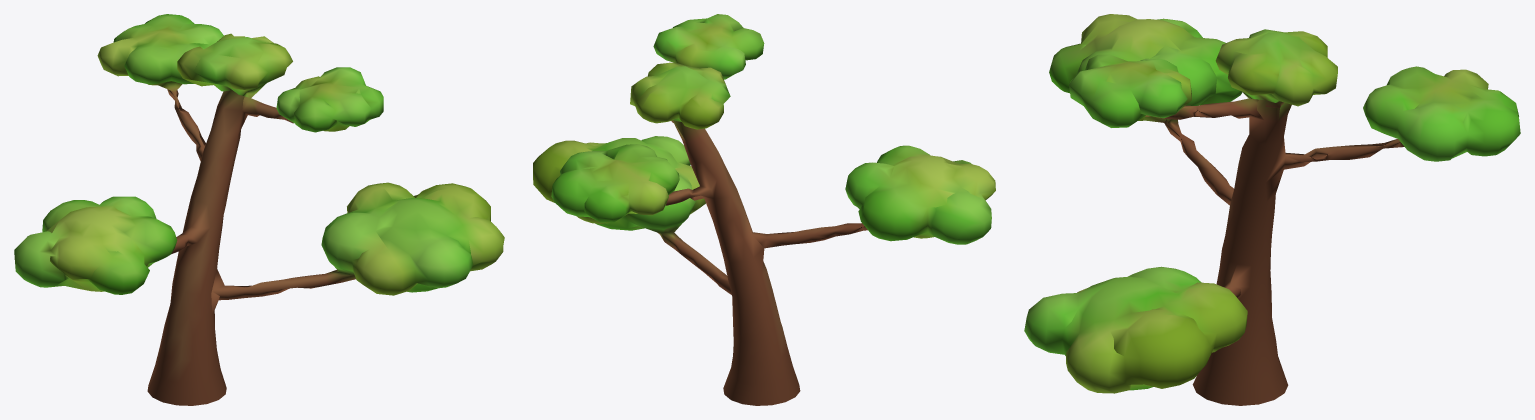
Rendered from cloud-tree-1-lod1.obj.
3 renders of one model, left to right at view 1: azimuth 30°, elevation 25°; view 2: azimuth 150°, elevation 25°; view 3: azimuth 270°, elevation 25°, orthographic. The views are drawn at different scales.
Parts seen in each view (by area): view 1: simplified; view 2: simplified; view 3: simplified.
Part boxes in pixels (<box>): simplified: <box>14,14,504,405</box>; simplified: <box>533,14,995,405</box>; simplified: <box>1024,14,1520,405</box>.
Size of the model in its own units: 455 by 303 by 352.
